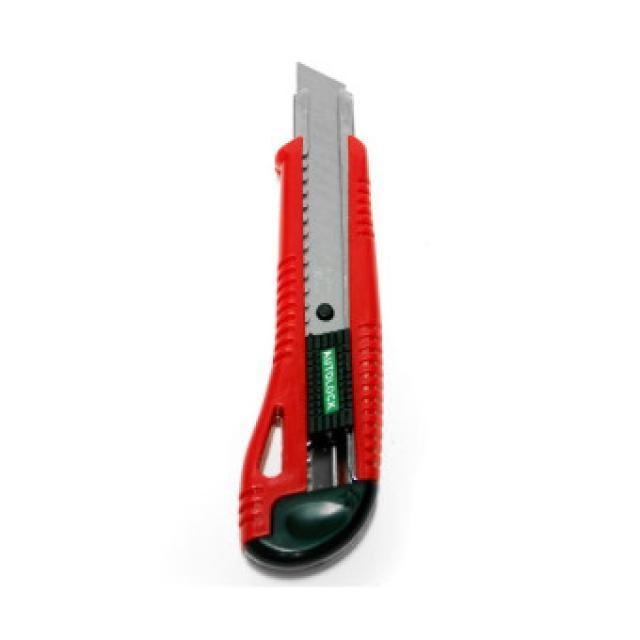cutter: (228, 59, 396, 589)
